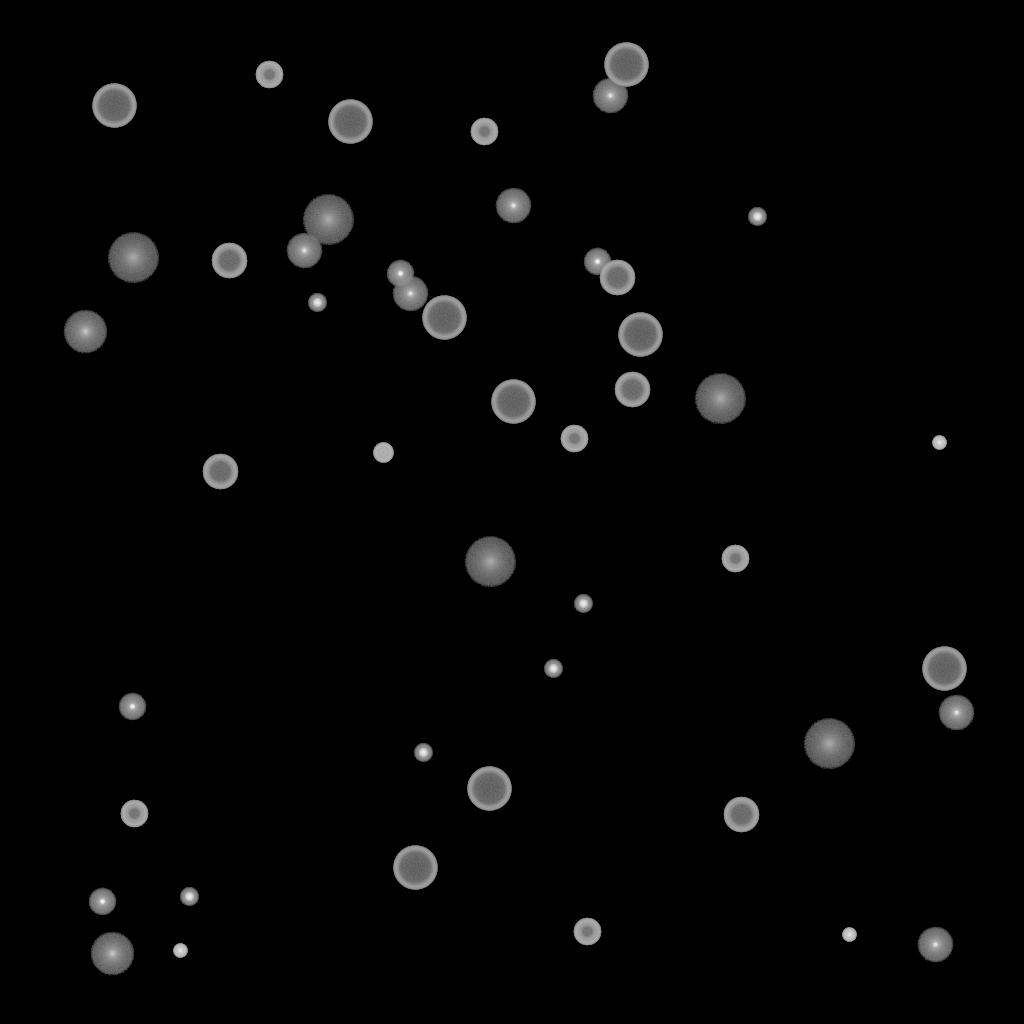depth:-10: (386, 260, 414, 288), (88, 888, 116, 916), (118, 693, 146, 721), (583, 248, 611, 276)
depth:-20: (574, 595, 592, 613), (414, 744, 432, 762), (180, 888, 198, 906), (748, 208, 766, 226), (308, 294, 326, 312), (544, 660, 562, 678)
depth:-30: (173, 944, 187, 958), (842, 928, 856, 942), (932, 436, 946, 450)
depth:-40: (373, 443, 393, 463)
depth:-50: (573, 918, 601, 946), (721, 545, 749, 573), (255, 61, 283, 89), (120, 800, 148, 828), (470, 118, 498, 146), (560, 425, 588, 453)
depth:-60: (202, 454, 238, 490), (614, 372, 650, 408), (599, 260, 635, 296), (211, 243, 247, 279), (723, 797, 759, 833)
depth:-70: (422, 296, 466, 340), (618, 313, 662, 357), (328, 100, 372, 144), (467, 767, 511, 811), (92, 84, 136, 128), (604, 43, 648, 87), (491, 380, 535, 424), (922, 647, 966, 691), (393, 846, 437, 890)
depth:0: (938, 695, 974, 731), (495, 188, 531, 224), (917, 927, 953, 963), (392, 276, 428, 312), (592, 78, 628, 114), (286, 233, 322, 269)
depth:10: (63, 310, 107, 354), (90, 932, 134, 976)
depth:20: (107, 233, 159, 283), (464, 537, 516, 587), (302, 195, 354, 245), (803, 719, 855, 769), (694, 374, 746, 424)
